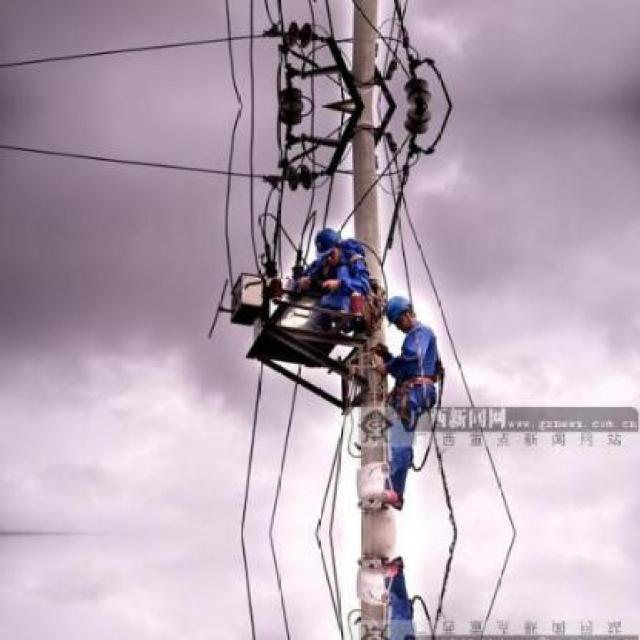helmet: (311, 226, 344, 263), (386, 288, 414, 330)
